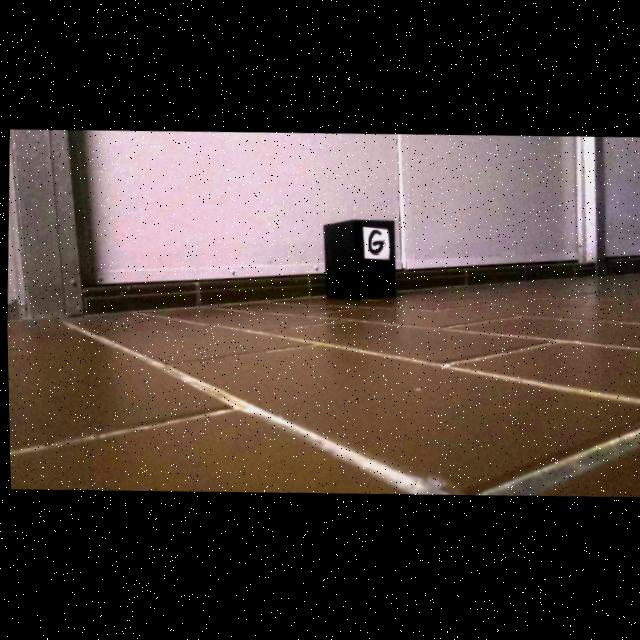G: (367, 232, 383, 255)
